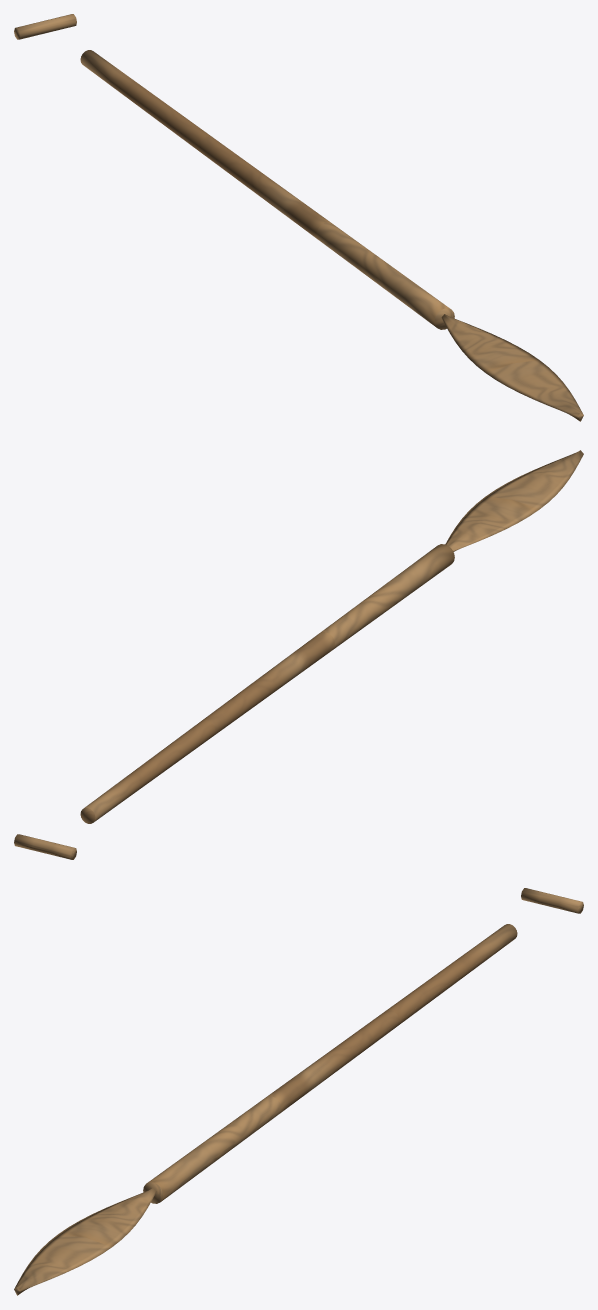
The model's file is oar_spare.glb.
3 renders of one model, top to bottom at view 1: azimuth 30°, elevation 25°; view 2: azimuth 150°, elevation 25°; view 3: azimuth 330°, elevation 25°, orthographic.
Visible parts, largest first — view 1: oar_spare_LOD0; view 2: oar_spare_LOD0; view 3: oar_spare_LOD0.
Part boxes in pixels (x1,y1,x2,y2): oar_spare_LOD0: (14,14,583,421); oar_spare_LOD0: (14,450,583,859); oar_spare_LOD0: (14,888,583,1295).
Size of what is drawn, in the model's own units: 0.3 by 0.108 by 4.94.
1 material, 1 textured.
